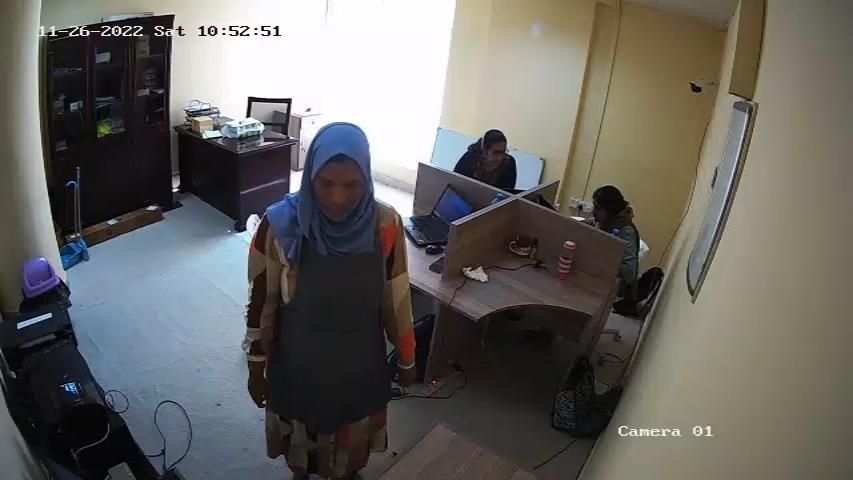apron: (267, 217, 391, 422), (175, 142, 175, 143)
